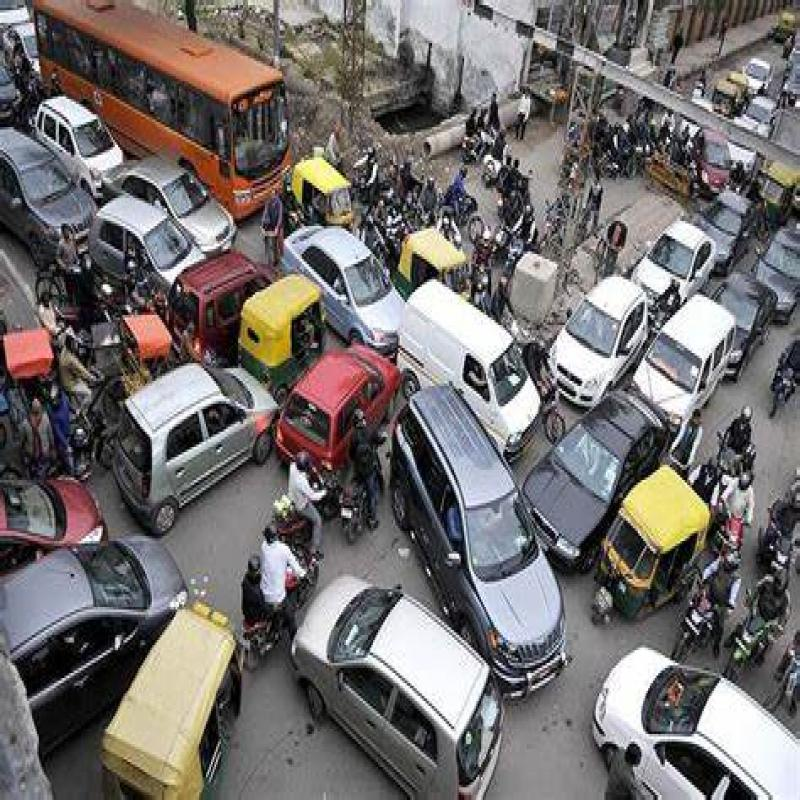auto: (159, 612, 253, 800), (606, 479, 699, 596), (293, 146, 369, 244), (405, 217, 476, 314), (255, 280, 324, 366)
car: (282, 572, 530, 800), (398, 398, 546, 610), (605, 642, 797, 800), (121, 392, 284, 497), (303, 227, 404, 348), (132, 161, 237, 252), (102, 201, 186, 304)
